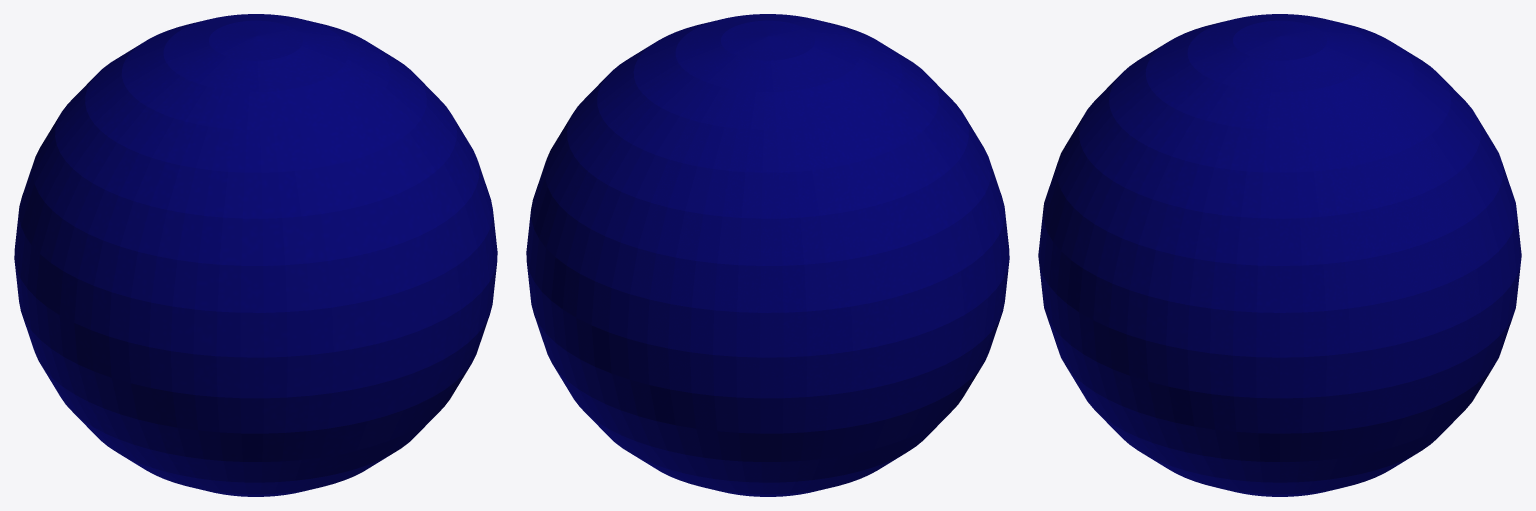
Rendered from goal.fbx.
3 views of the same model, side by side, from view 1: azimuth 30°, elevation 25°; view 2: azimuth 150°, elevation 25°; view 3: azimuth 270°, elevation 25° (orthographic).
Parts seen in each view (by area): view 1: Sphere; view 2: Sphere; view 3: Sphere.
Boxes of the visible parts, x1,y1,x2,y2 form: Sphere: (14,14,497,496); Sphere: (526,14,1009,496); Sphere: (1038,14,1521,496).
Bounding box in the file's own units: 2 × 2 × 2.
1 material, 1 textured.
